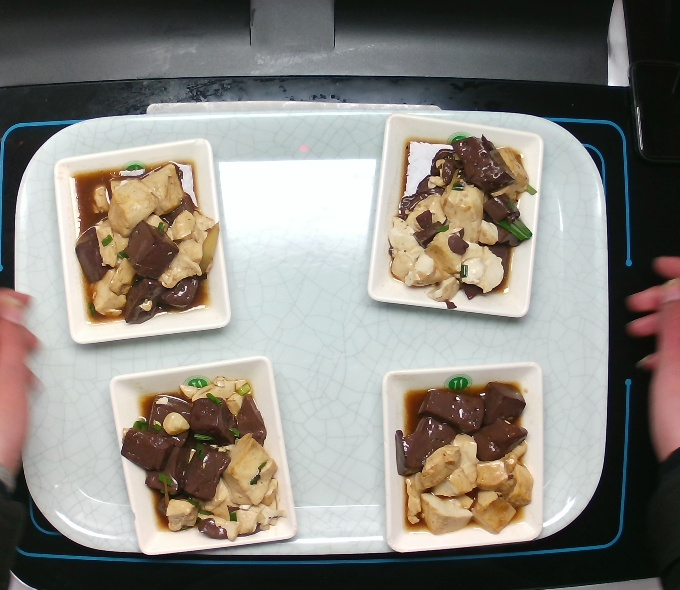wcq-DouFuMiuXue: (120, 375, 287, 544), (393, 133, 543, 307), (69, 152, 215, 329), (388, 375, 532, 535)
